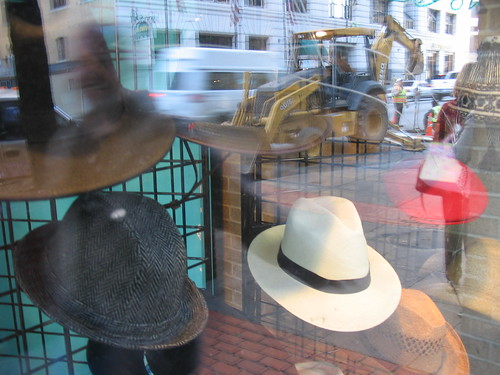person hardhat: (392, 73, 408, 129)
